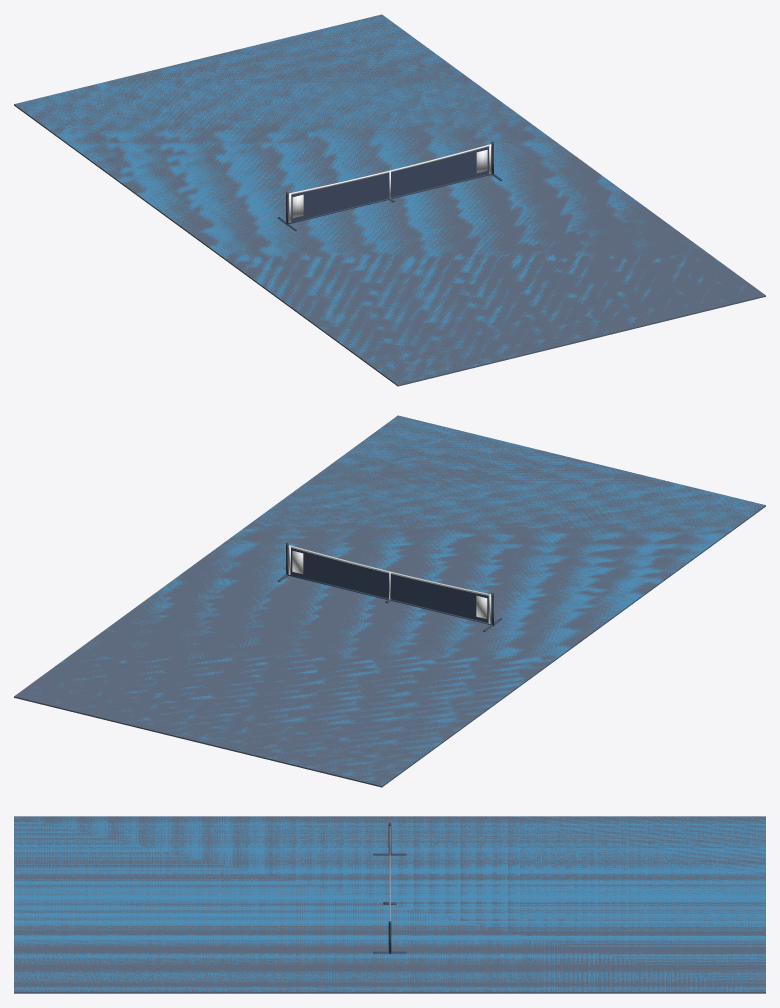
The model's file is court.glb.
The picture shows the model from 3 angles, top to bottom: view 1: azimuth 30°, elevation 25°; view 2: azimuth 150°, elevation 25°; view 3: azimuth 270°, elevation 25°; orthographic projection. The views are drawn at different scales.
Parts seen in each view (by area): view 1: Court_Curb, Court_Surface, Net_Mesh, Net_Tape_White, Net_Post_Steel; view 2: Court_Curb, Court_Surface, Net_Mesh, Net_Tape_White, Net_Post_Steel; view 3: Court_Surface, Court_Curb, Net_Post_Steel.
Part boxes in pixels (bbox=[...]): Court_Curb: bbox=[14, 14, 765, 386]; Court_Surface: bbox=[15, 14, 745, 384]; Net_Mesh: bbox=[291, 147, 488, 221]; Net_Tape_White: bbox=[288, 144, 491, 222]; Net_Post_Steel: bbox=[278, 142, 501, 230]; Court_Curb: bbox=[14, 415, 765, 787]; Court_Surface: bbox=[15, 415, 765, 785]; Net_Mesh: bbox=[291, 548, 488, 622]; Net_Tape_White: bbox=[288, 545, 491, 623]; Net_Post_Steel: bbox=[278, 543, 501, 631]; Court_Surface: bbox=[14, 816, 765, 992]; Court_Curb: bbox=[14, 816, 765, 993]; Net_Post_Steel: bbox=[373, 823, 406, 953].
Bounding box in the file's own units: 11.4 × 0.988 × 20.6.
